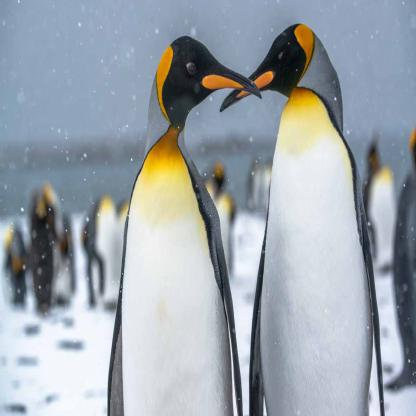Penguin: (210, 13, 388, 415), (103, 31, 267, 415)
